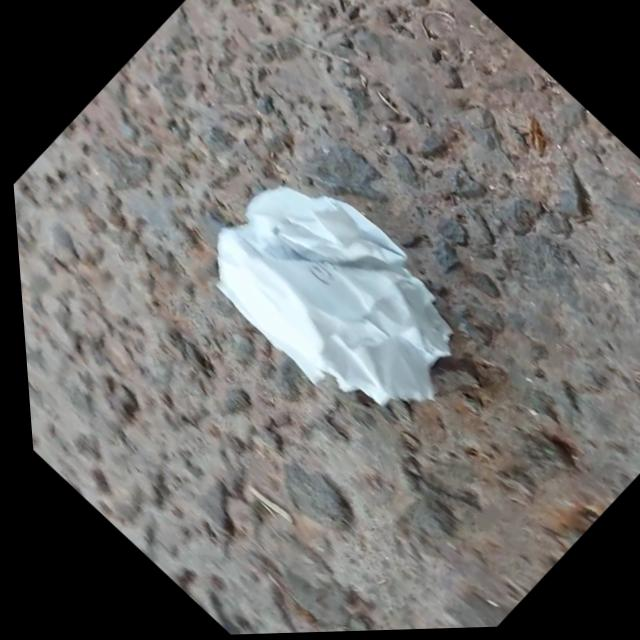paper: (150, 112, 527, 476)
